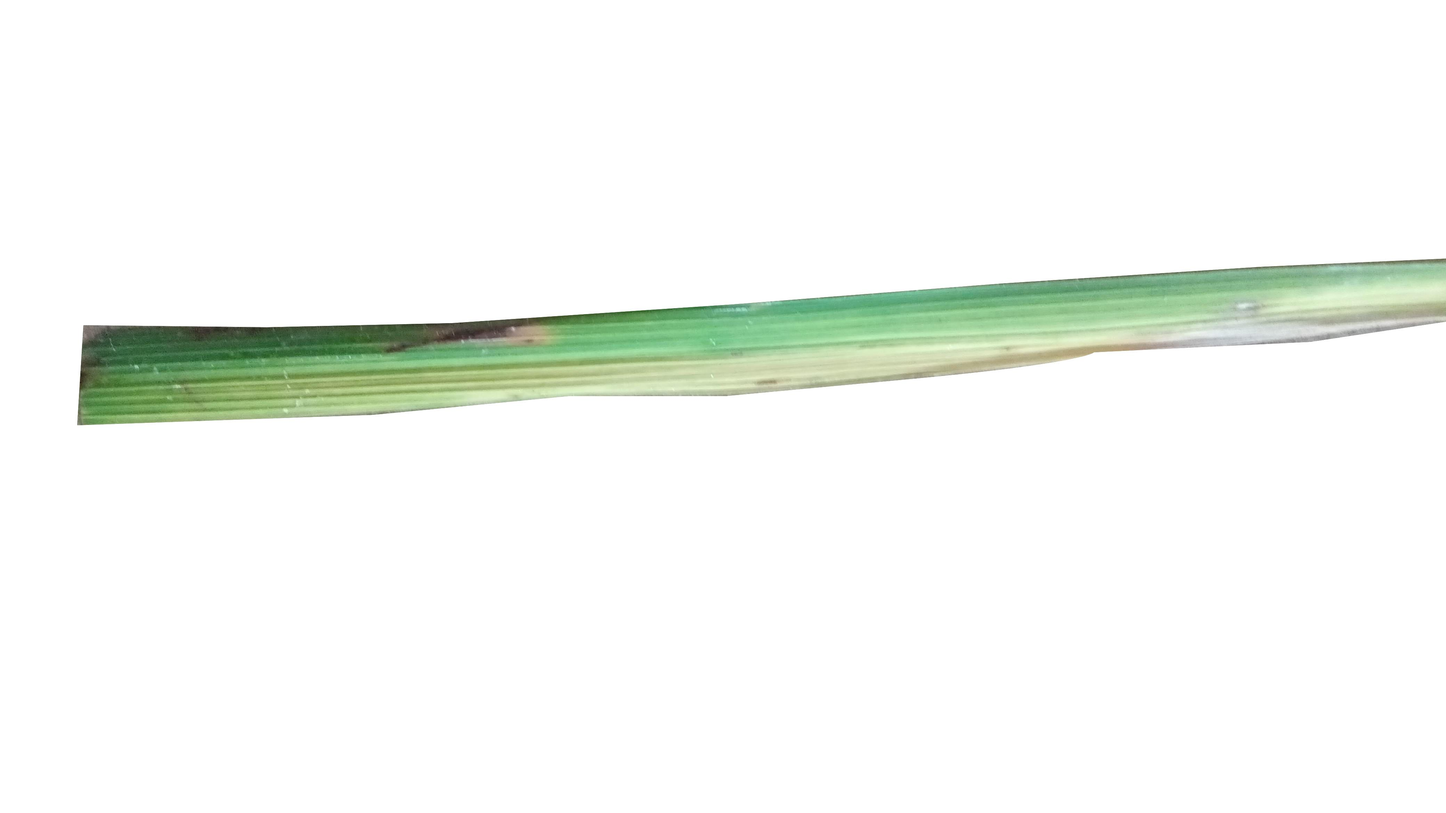Rice blast: (401, 313, 610, 379)
